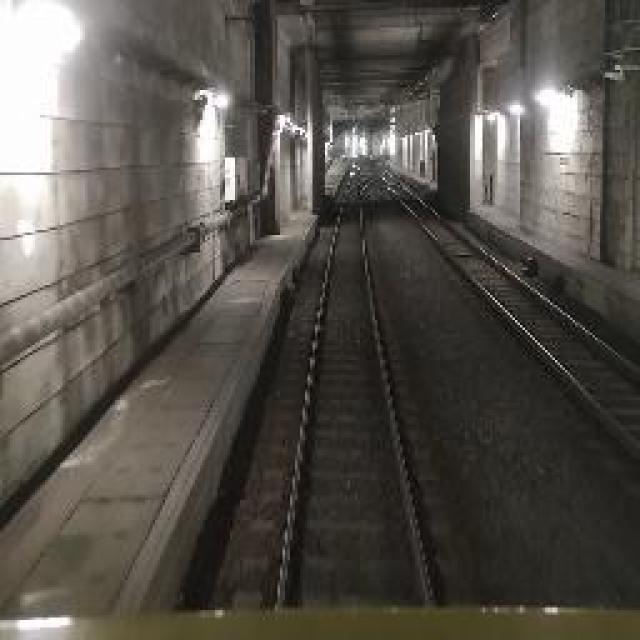rail: (240, 151, 486, 611)
